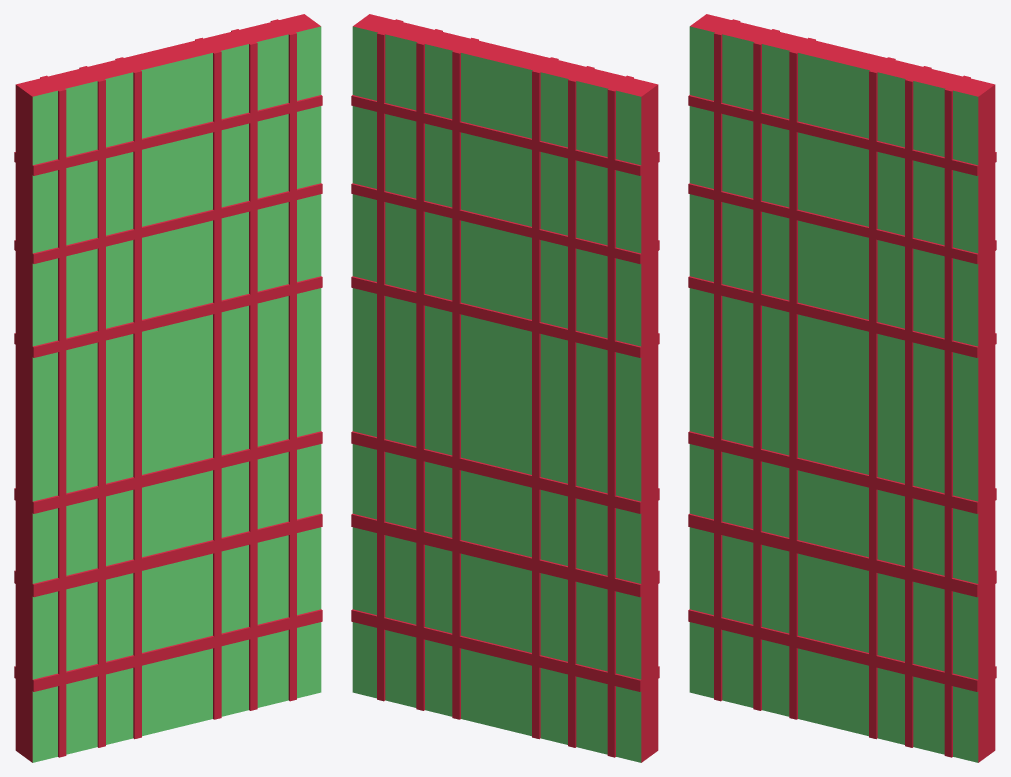
The model's file is SlidingDoor.fbx.
3 views of the same model, side by side, from view 1: azimuth 30°, elevation 25°; view 2: azimuth 150°, elevation 25°; view 3: azimuth 330°, elevation 25° (orthographic).
Visible parts, largest first — view 1: SlidingDoor; view 2: SlidingDoor; view 3: SlidingDoor.
Boxes of the visible parts, bbox=[...] form: SlidingDoor: bbox=[14, 14, 322, 762]; SlidingDoor: bbox=[351, 14, 659, 762]; SlidingDoor: bbox=[688, 14, 996, 762].
Size of the model in its own units: 225 by 496 by 26.1.
